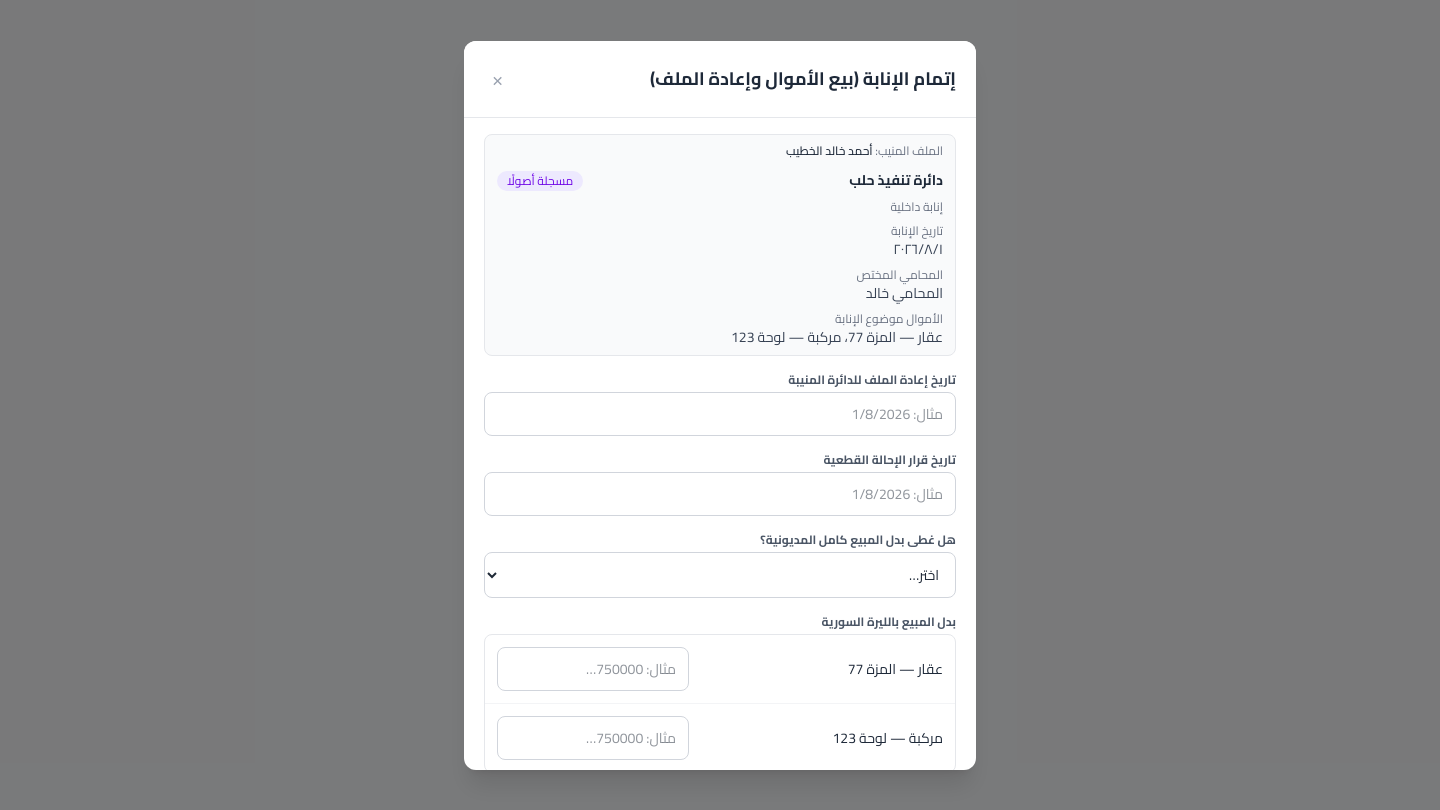
Test case: CompleteDelegationModal › يعرض رسالة خطأ الخادم عند فشل الإتمام
The width and height of the screenshot is (1440, 810).
Type "10/8/2026" into the field labelled "تاريخ إعادة الملف للدائرة المنيبة" at x=720, y=414, box [484,392,956,436]
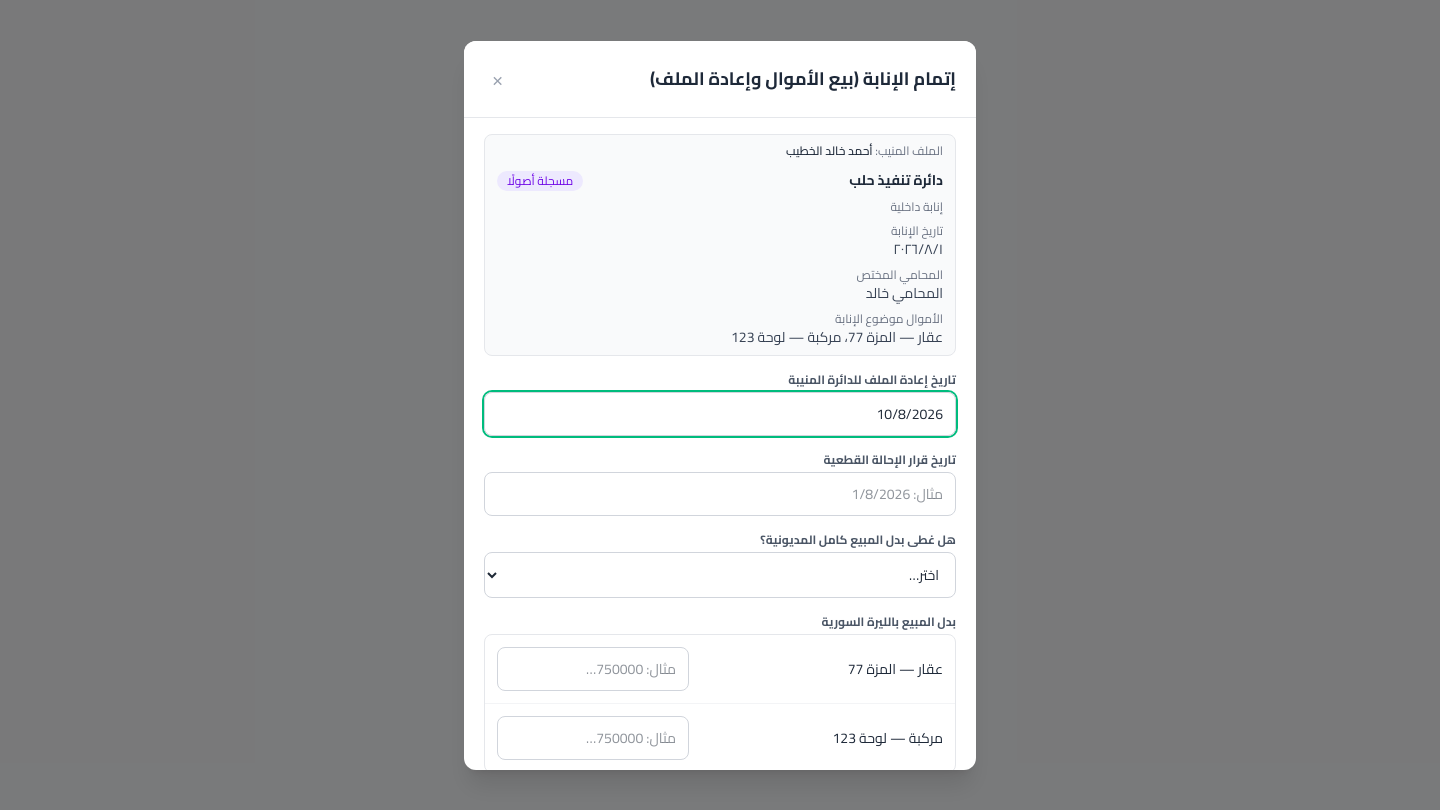
Type "12/8/2026" into the field labelled "تاريخ قرار الإحالة القطعية" at x=720, y=494, box [484,472,956,516]
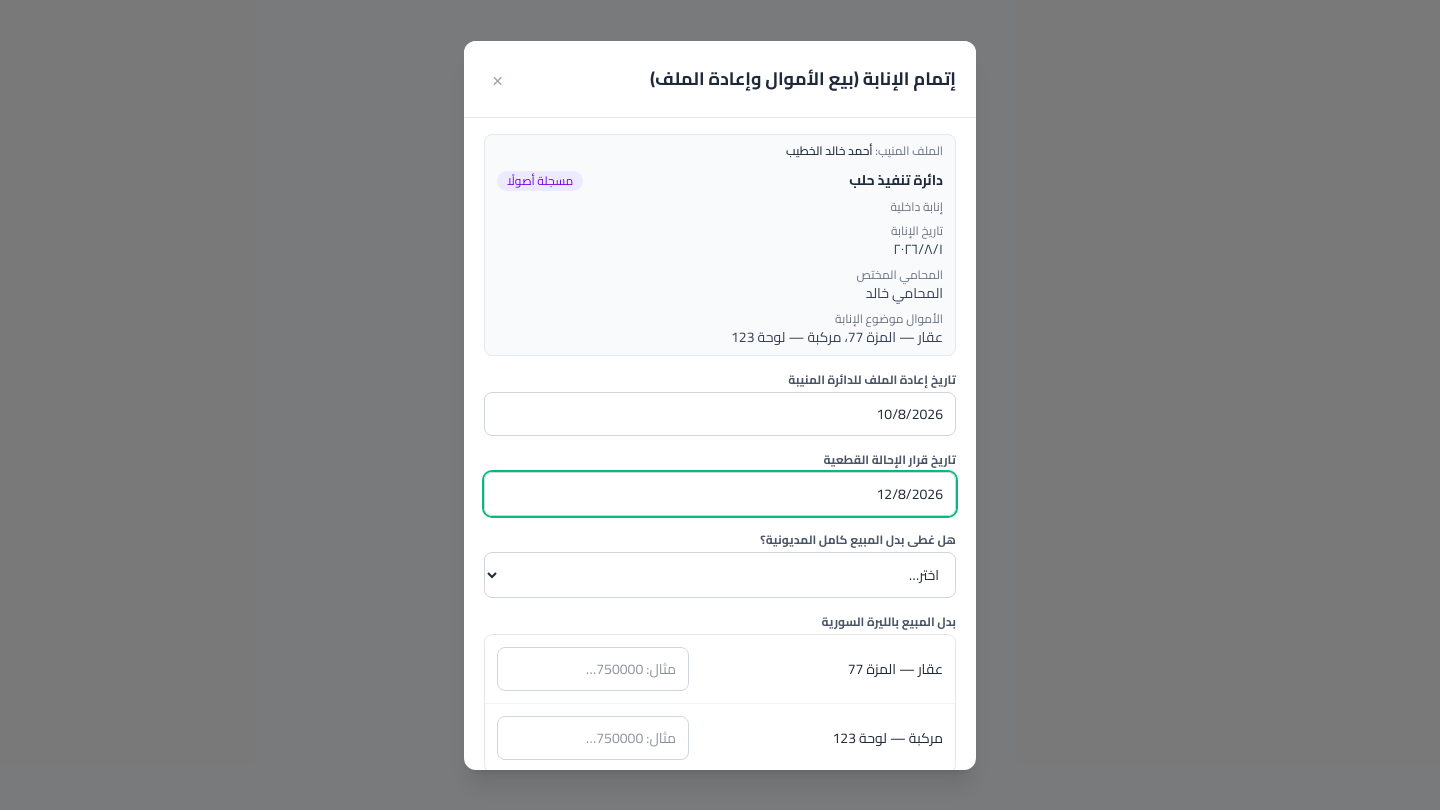
Select "غطى كامل المديونية" in the dropdown labelled "هل غطى بدل المبيع كامل المديونية؟" at x=720, y=574, box [484,552,956,598]
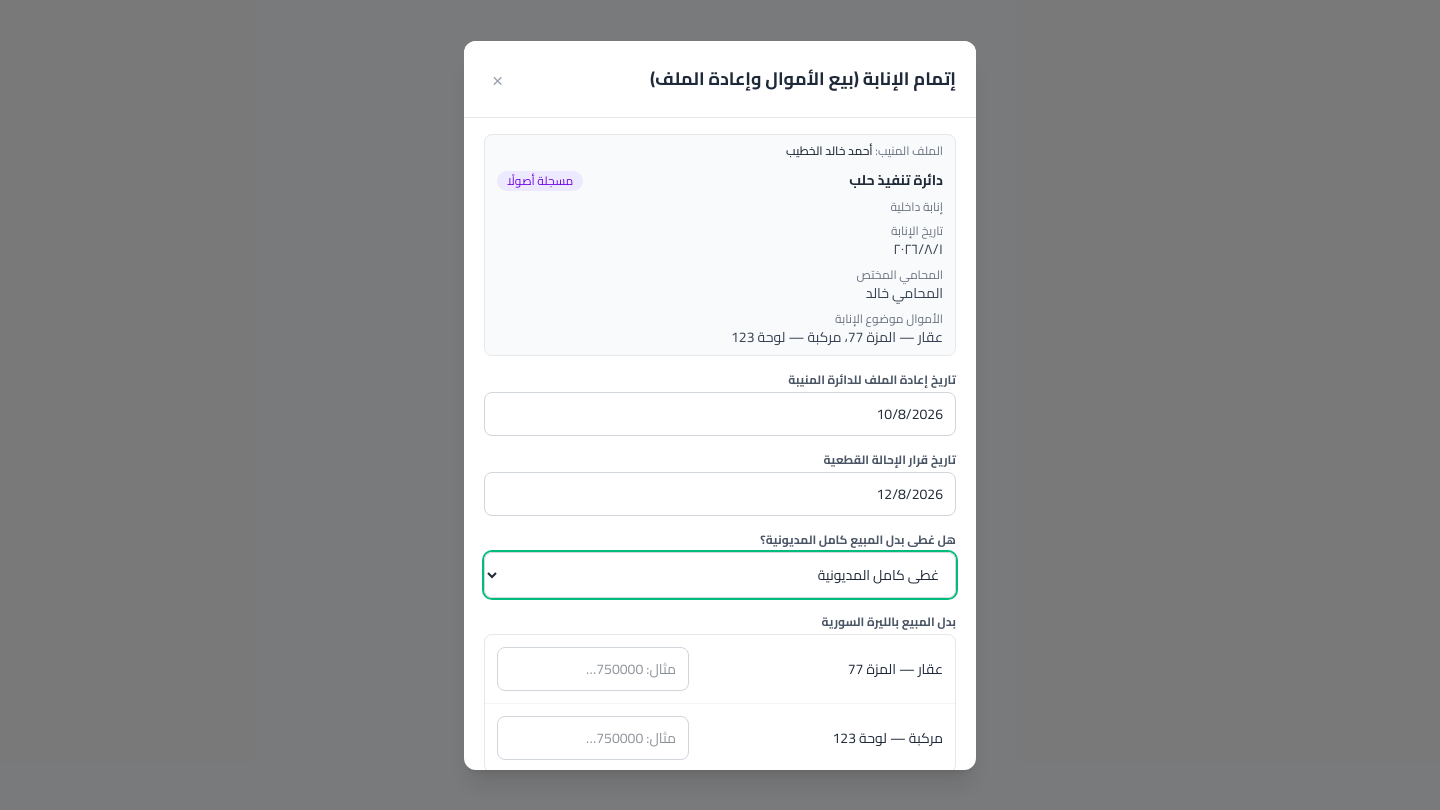
Type "750000" into the field named "بدل المبيع بالليرة السورية" at x=593, y=668, box [497,646,689,690]
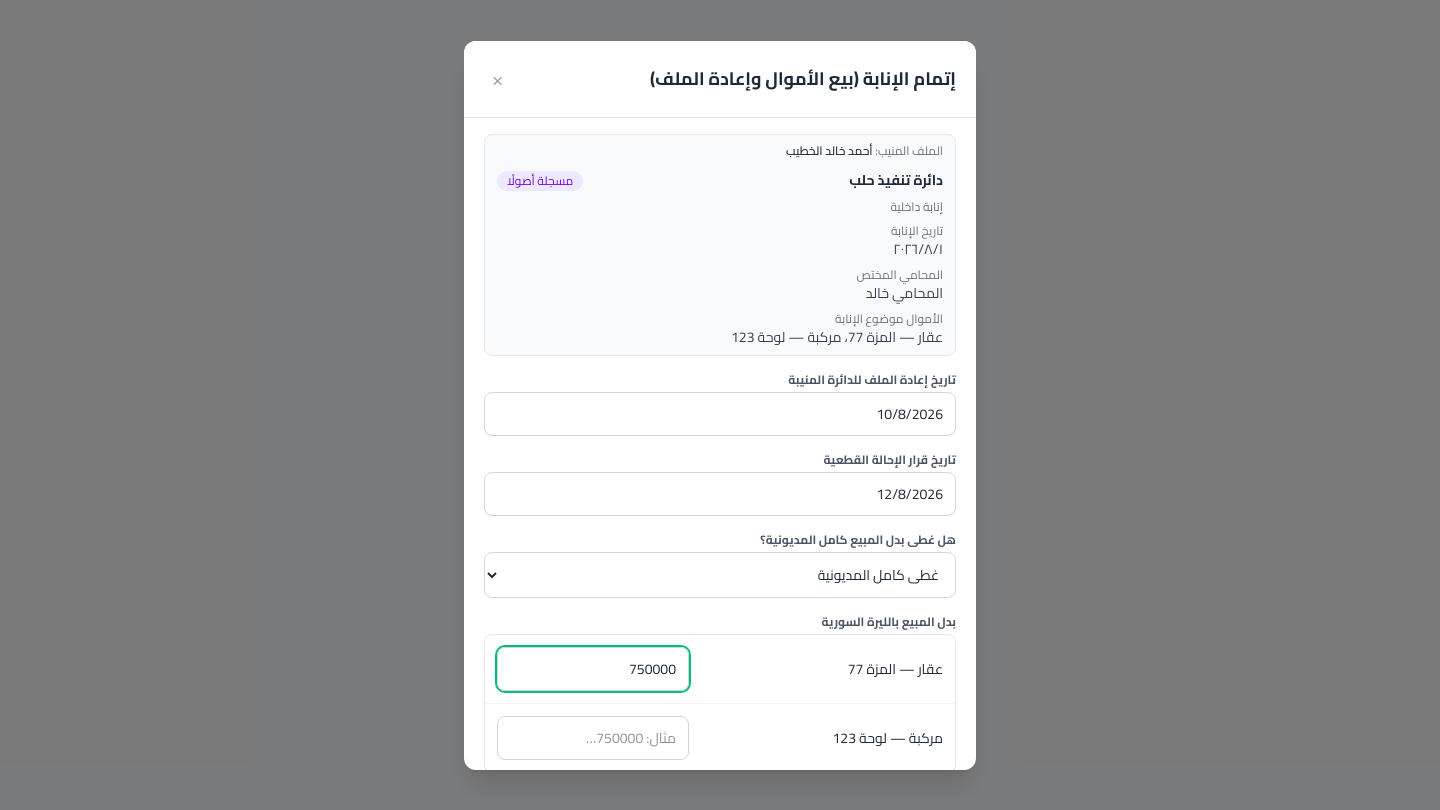
Type "1250000" into the field named "بدل المبيع بالليرة السورية" at x=593, y=738, box [497,716,689,760]
(page scrolled)
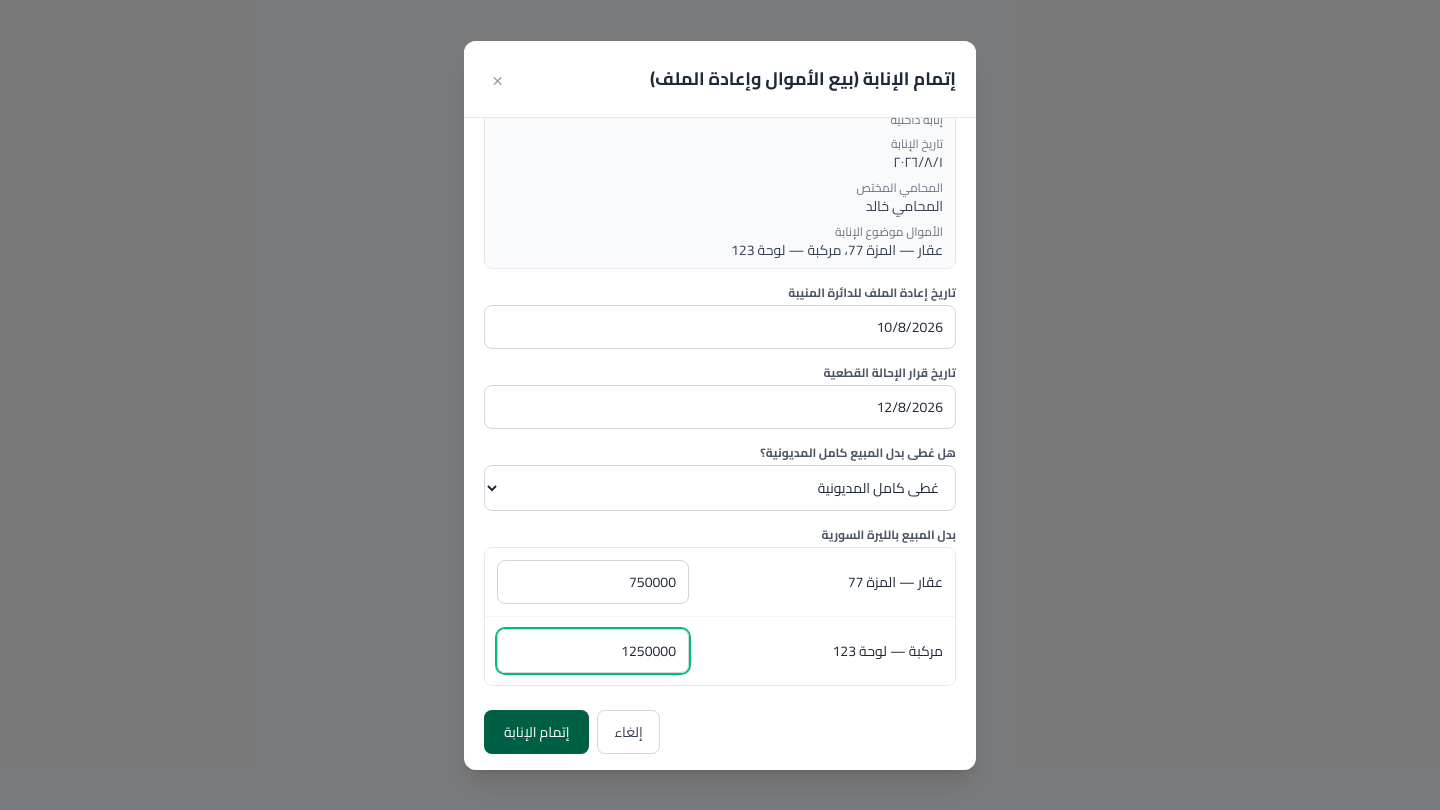
Click the button "إتمام الإنابة" at x=537, y=732, box [484,710,589,754]
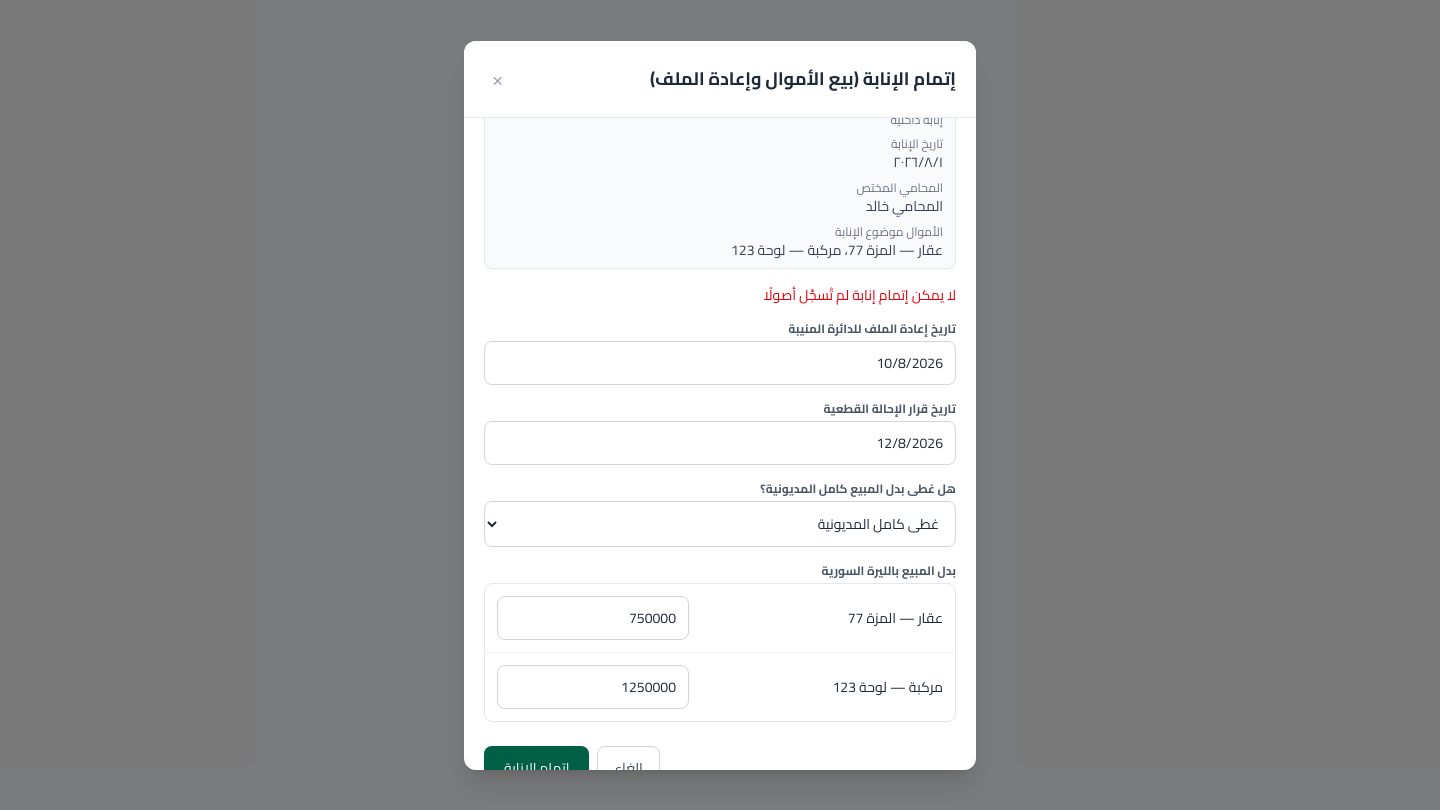
Expected: the message reads "لا يمكن إتمام إنابة لم تُسجَّل أصولًا", [764,282,956,308]
